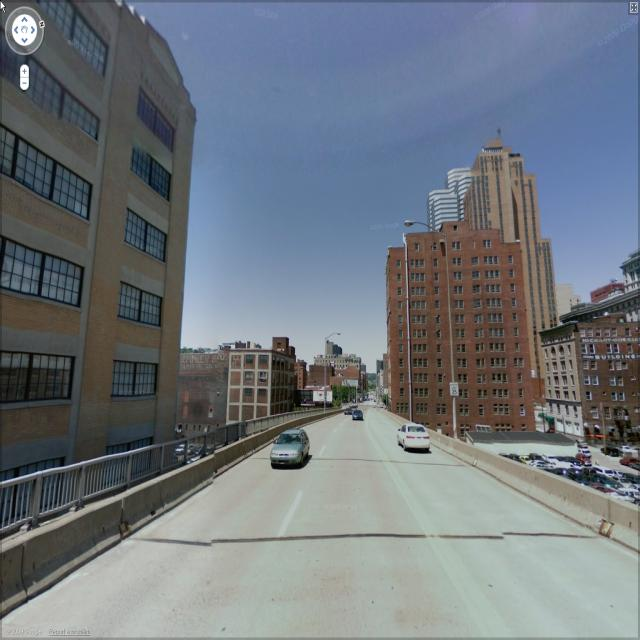b_1: (1, 8, 205, 486), (387, 240, 535, 430), (543, 320, 640, 437), (470, 127, 541, 241), (171, 339, 237, 444), (225, 347, 303, 432), (418, 160, 482, 240)
